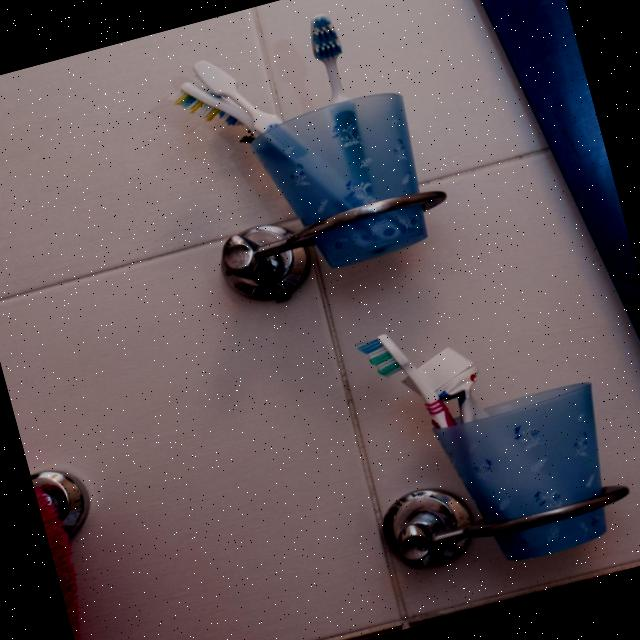Toothpaste: (415, 342, 484, 428)
